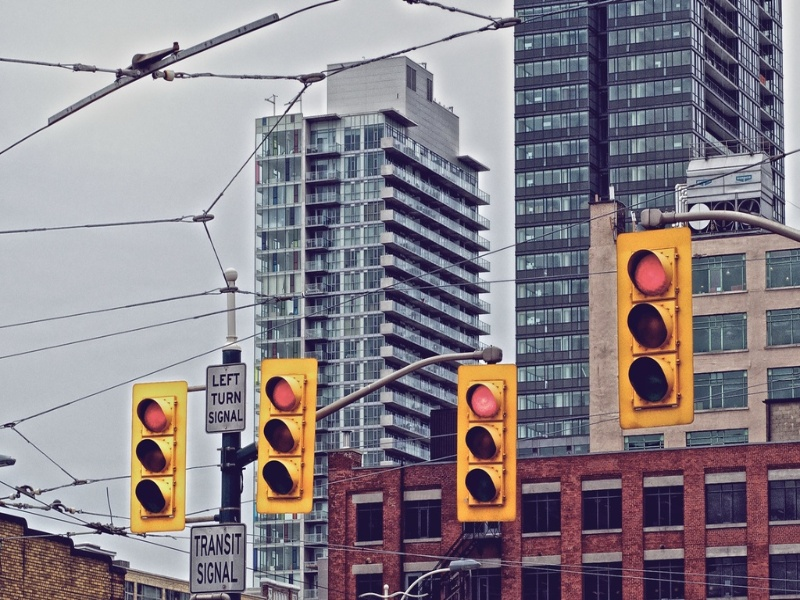red_light: (114, 374, 187, 444), (604, 237, 681, 296), (448, 365, 515, 422), (261, 356, 317, 422)
